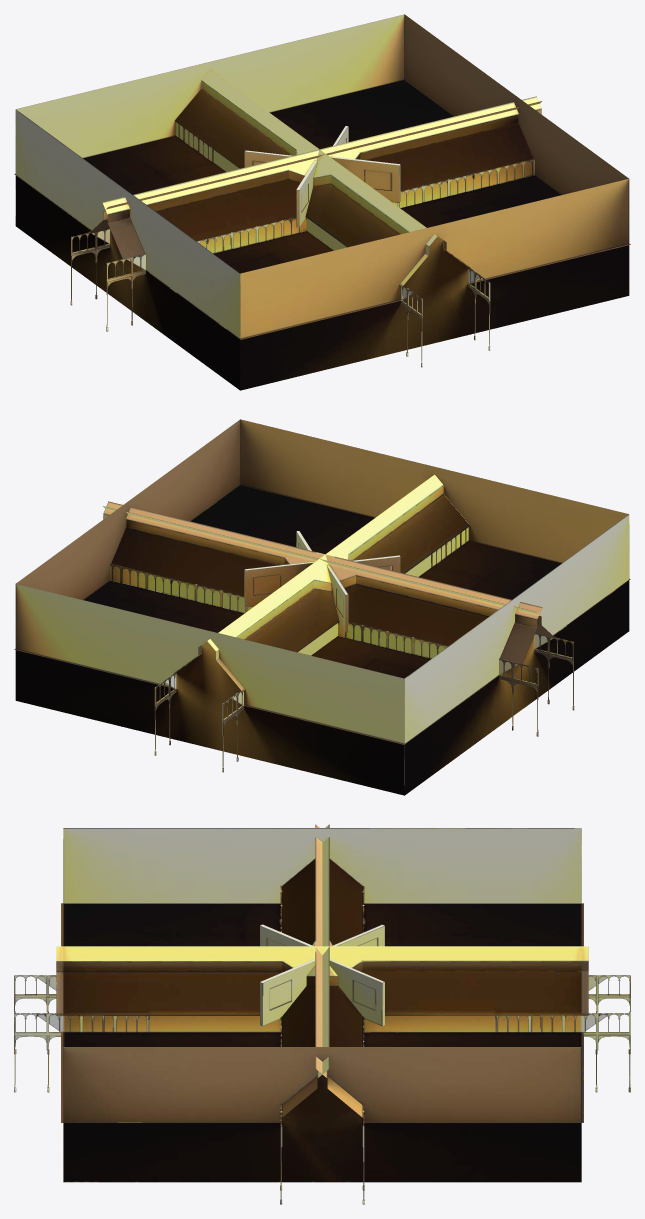
The model's file is market hall.fbx.
3 renders of one model, top to bottom at view 1: azimuth 30°, elevation 25°; view 2: azimuth 150°, elevation 25°; view 3: azimuth 270°, elevation 25°, orthographic. The views are drawn at different scales.
Parts seen in each view (by area): view 1: Plane.000; view 2: Plane.000; view 3: Plane.000.
Part boxes in pixels (x1,y1,x2,y2): Plane.000: (14, 14, 630, 390); Plane.000: (14, 419, 630, 795); Plane.000: (14, 824, 630, 1204).
Bounding box in the file's own units: 7.61 × 1.82 × 7.53.
1 material, 1 textured.
